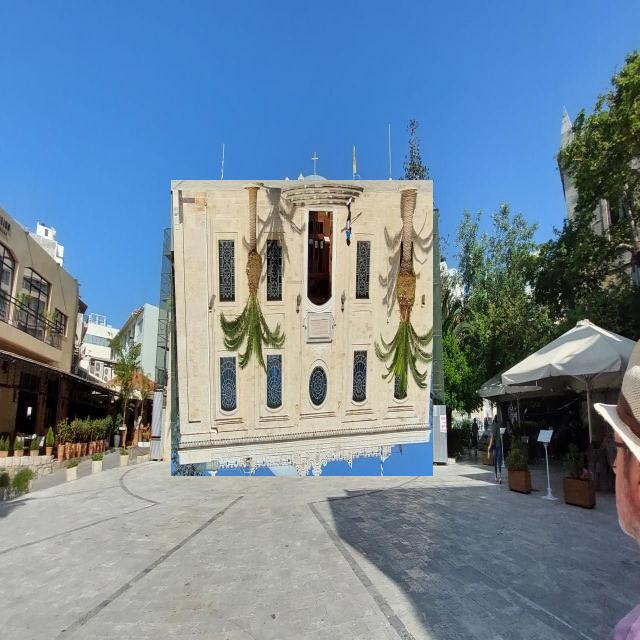Agios Titos: (172, 181, 434, 477)
